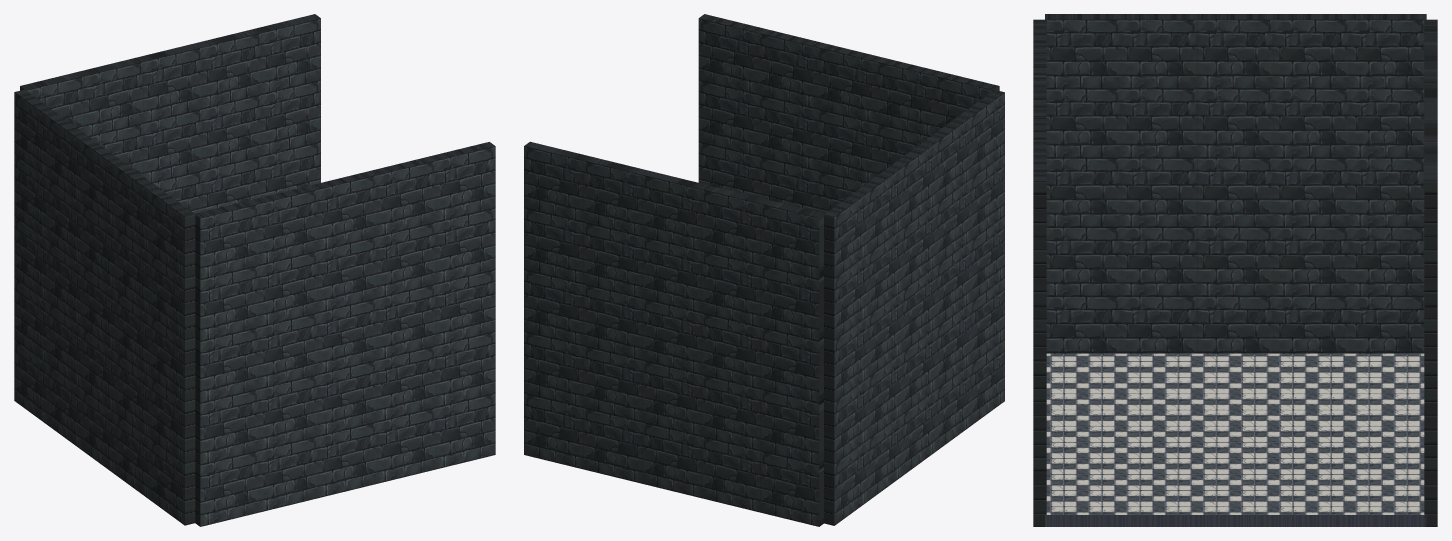
The model's file is startiingHub.fbx.
3 renders of one model, left to right at view 1: azimuth 30°, elevation 25°; view 2: azimuth 150°, elevation 25°; view 3: azimuth 270°, elevation 25°, orthographic. The views are drawn at different scales.
Parts seen in each view (by area): view 1: Plane.002, Plane.003, Plane.001; view 2: Plane.001, Plane.003, Plane.002; view 3: Plane.003, Plane, Plane.001, Plane.002.
Part boxes in pixels (x1,y1,x2,y2): Plane.002: [195, 142, 495, 526]; Plane.003: [14, 89, 195, 525]; Plane.001: [20, 14, 320, 213]; Plane.001: [524, 141, 824, 526]; Plane.003: [824, 90, 1004, 525]; Plane.002: [698, 14, 999, 213]; Plane.003: [1045, 14, 1426, 353]; Plane: [1045, 353, 1426, 526]; Plane.001: [1424, 19, 1437, 526]; Plane.002: [1033, 19, 1046, 526].
Size of the model in its own units: 10351 by 10002 by 10588.
2 materials, 2 textured.
